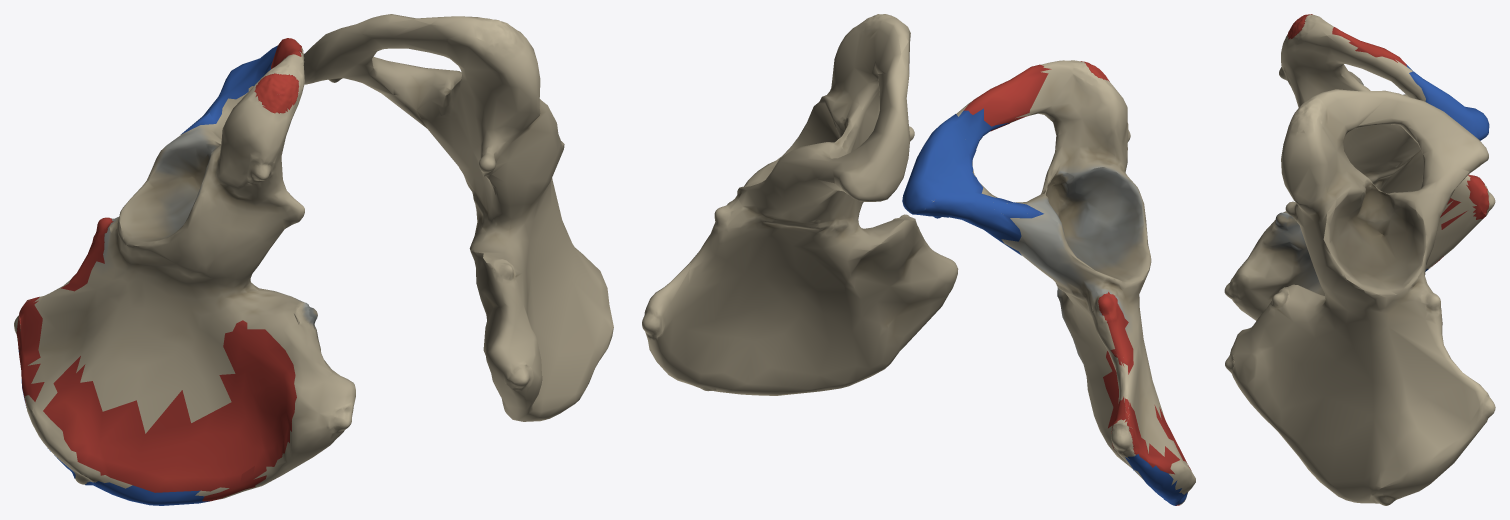
The model's file is os-coxae.glb.
3 renders of one model, left to right at view 1: azimuth 30°, elevation 25°; view 2: azimuth 150°, elevation 25°; view 3: azimuth 270°, elevation 25°, orthographic. The views are drawn at different scales.
Parts seen in each view (by area): view 1: FJ3288, FJ3152, os-coxae__fossa-iliaca-facies-glutea, origo__fossa-iliaca-facies-glutea__FJ1419, os-coxae__tuber-ischiadicum, os-coxae__acetabulum, insertio__pubis-foramen-obturatum__m-rectus-abdominis, origo__sias__FJ1438, insertio__crista-iliaca__FJ1452, origo__tuber-ischiadicum__FJ1395, origo__siai__FJ1433; view 2: FJ3288, FJ3152, os-coxae__acetabulum, insertio__pubis-foramen-obturatum__m-rectus-abdominis, origo__tuber-ischiadicum__FJ1403, os-coxae__fossa-iliaca-facies-glutea, origo__siai__FJ1433, insertio__crista-iliaca__FJ1452, origo__sias__FJ1438, os-coxae__sias, os-coxae__siai, os-coxae__tuber-ischiadicum; view 3: FJ3288, FJ3152, os-coxae__tuber-ischiadicum, insertio__pubis-foramen-obturatum__m-rectus-abdominis, origo__sias__FJ1434, origo__tuber-ischiadicum__FJ1403.
Part boxes in pixels (x1,y1,x2,y2): FJ3288: (303, 14, 613, 421); FJ3152: (28, 55, 355, 499); os-coxae__fossa-iliaca-facies-glutea: (35, 265, 307, 470); origo__fossa-iliaca-facies-glutea__FJ1419: (43, 320, 296, 492); os-coxae__tuber-ischiadicum: (223, 41, 304, 182); os-coxae__acetabulum: (103, 125, 216, 263); insertio__pubis-foramen-obturatum__m-rectus-abdominis: (180, 45, 277, 134); origo__sias__FJ1438: (16, 299, 44, 404); insertio__crista-iliaca__FJ1452: (18, 350, 209, 505); origo__tuber-ischiadicum__FJ1395: (254, 73, 298, 113); origo__siai__FJ1433: (61, 217, 113, 291); FJ3288: (642, 14, 958, 395); FJ3152: (956, 62, 1195, 504); os-coxae__acetabulum: (1003, 167, 1144, 321); insertio__pubis-foramen-obturatum__m-rectus-abdominis: (902, 108, 1043, 255); origo__tuber-ischiadicum__FJ1403: (964, 64, 1051, 131); os-coxae__fossa-iliaca-facies-glutea: (1137, 295, 1186, 463); origo__siai__FJ1433: (1098, 292, 1133, 374); insertio__crista-iliaca__FJ1452: (1125, 454, 1187, 505); origo__sias__FJ1438: (1123, 404, 1179, 474); os-coxae__sias: (1111, 418, 1188, 489); os-coxae__siai: (1089, 299, 1132, 416); os-coxae__tuber-ischiadicum: (959, 60, 1130, 165); FJ3288: (1225, 89, 1495, 505); FJ3152: (1224, 14, 1476, 320); os-coxae__tuber-ischiadicum: (1279, 14, 1425, 101); insertio__pubis-foramen-obturatum__m-rectus-abdominis: (1406, 64, 1489, 140); origo__sias__FJ1434: (1466, 174, 1489, 219); origo__tuber-ischiadicum__FJ1403: (1332, 27, 1406, 66).
Bounding box in the file's own units: 290 × 206 × 143.
